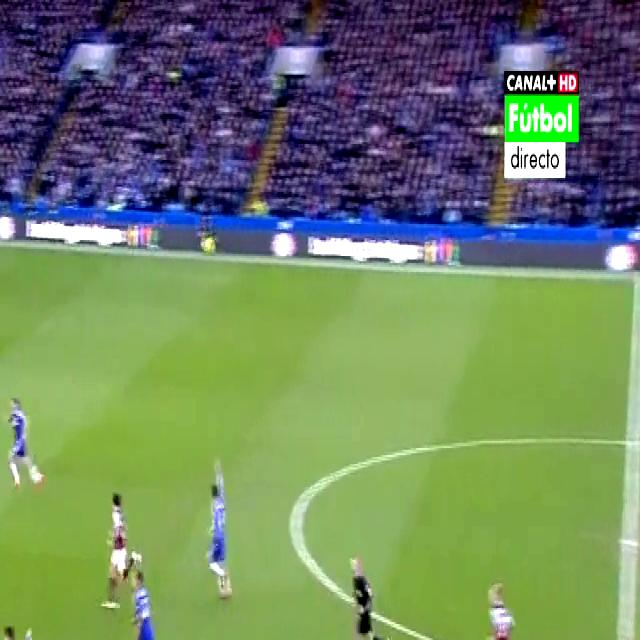referee: (340, 537, 392, 640)
soccer-player: (199, 449, 242, 611), (2, 381, 53, 501), (96, 483, 139, 618), (476, 567, 526, 640), (119, 570, 166, 640), (0, 611, 41, 640)
